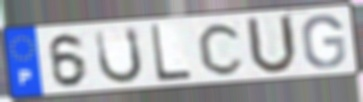6: (47, 32, 90, 89)
C: (196, 21, 247, 78)
G: (300, 12, 349, 70)
L: (147, 22, 193, 85)
U: (243, 13, 300, 77), (93, 25, 146, 87)
